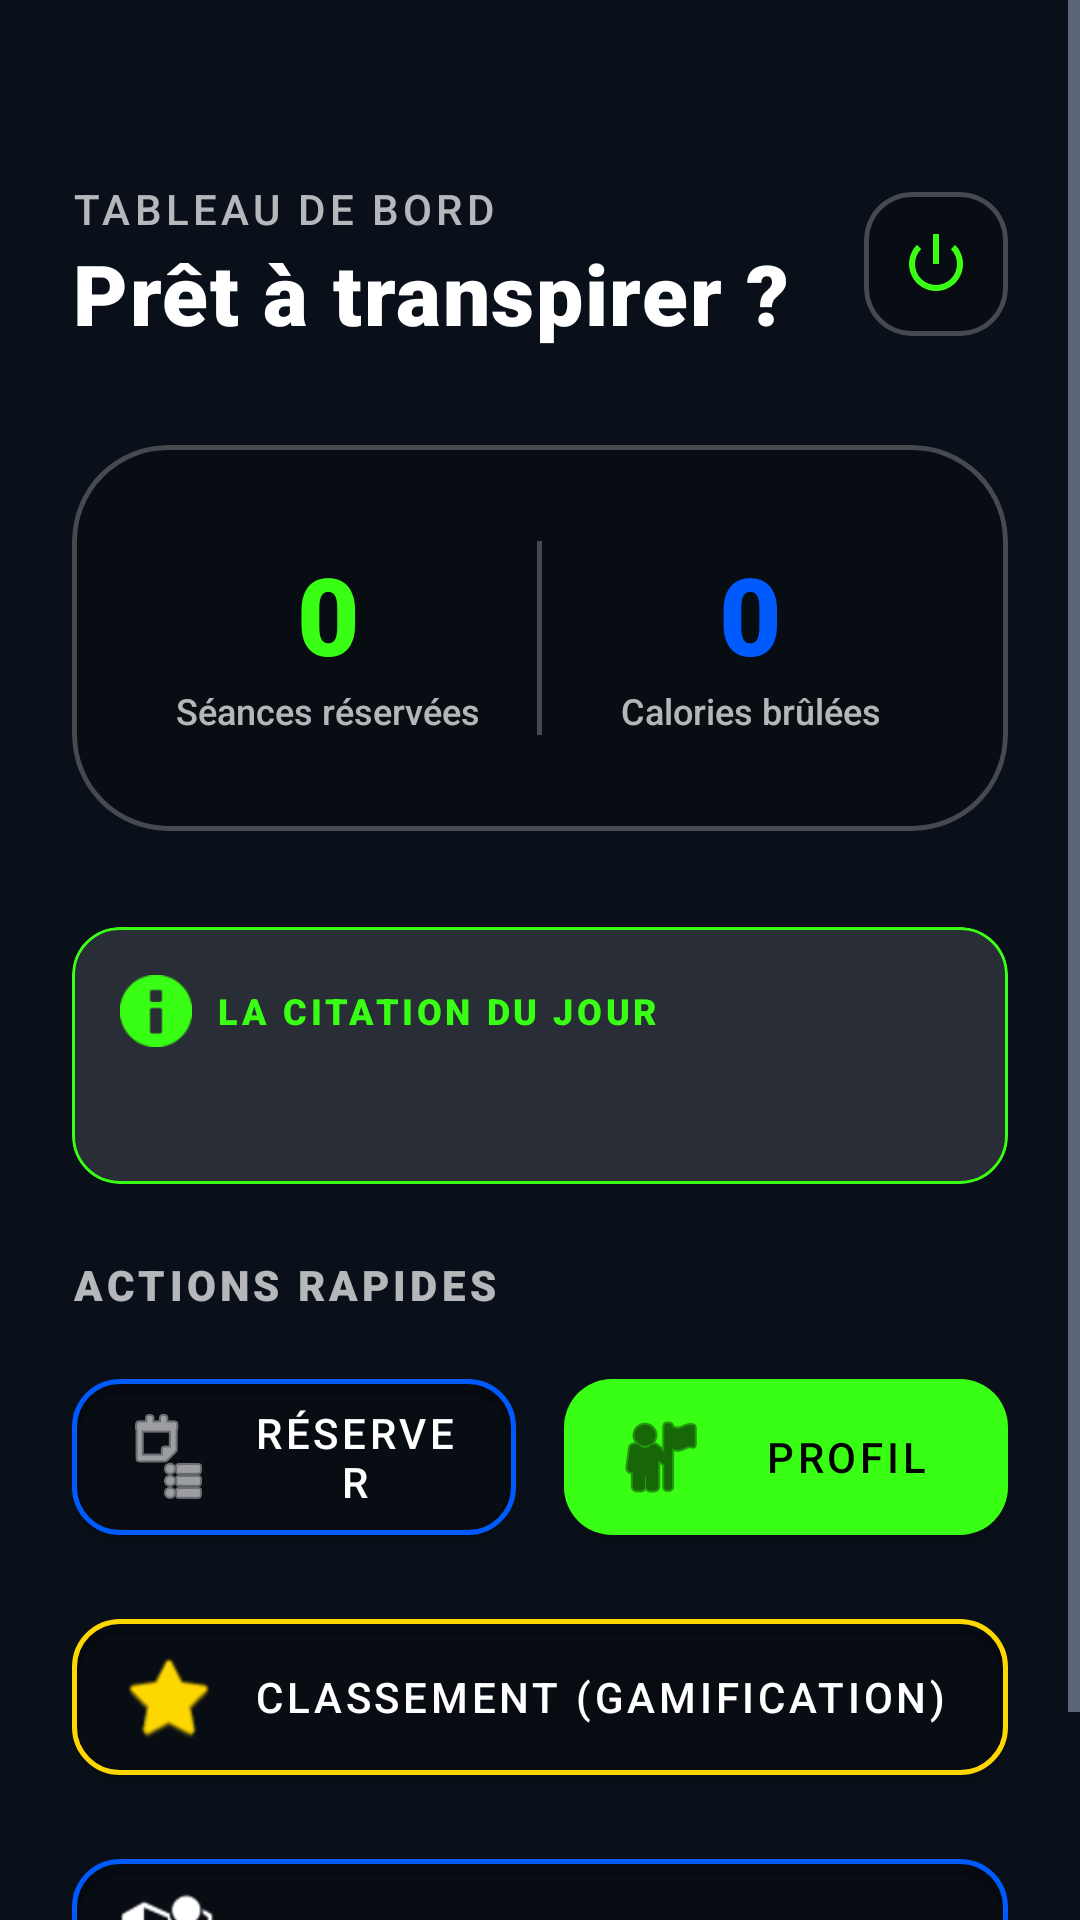

Screen size 1080×1920. Icon name, then its center in pixels as (x=x, y=y):
info: (x=156, y=1011)
lock power off: (x=936, y=264)
